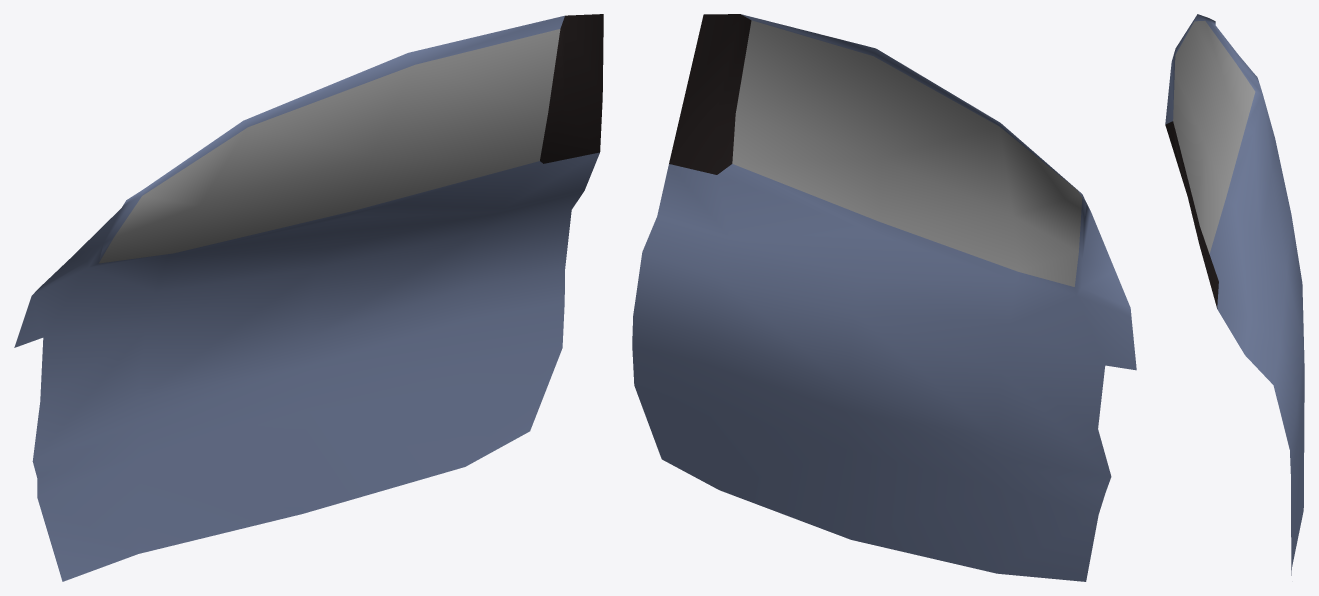
Rendered from porte2.obj.
3 views of the same model, side by side, from view 1: azimuth 30°, elevation 25°; view 2: azimuth 150°, elevation 25°; view 3: azimuth 270°, elevation 25° (orthographic). The views are drawn at different scales.
Visible parts, largest first — view 1: Cube.002; view 2: Cube.002; view 3: Cube.002.
Part boxes in pixels (left/top/right/bottom): Cube.002: left=14, top=14, right=603, bottom=581; Cube.002: left=632, top=14, right=1136, bottom=581; Cube.002: left=1165, top=14, right=1304, bottom=575.
Bounding box in the file's own units: 3.05 × 2.59 × 0.6832.
